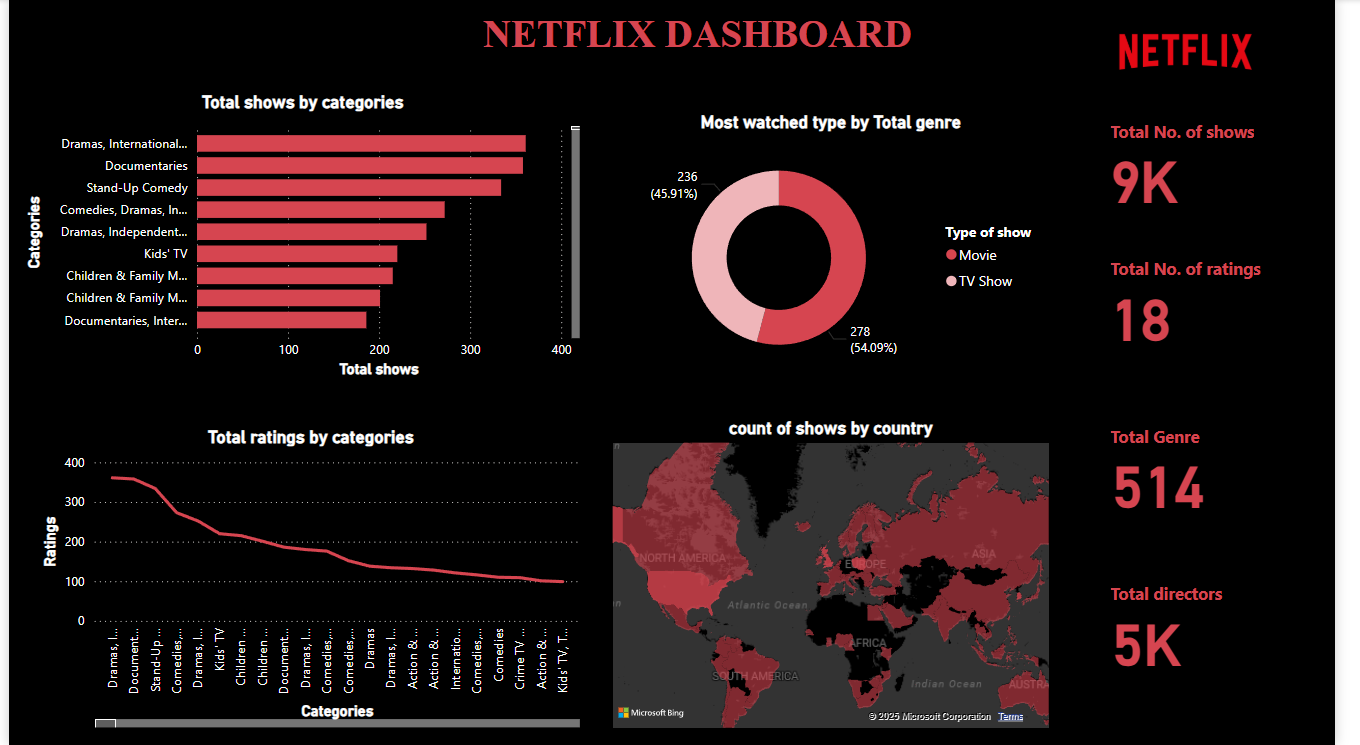

The dashboard page shown, as its layout file describes it:
{"tool":"powerbi","page":{"name":"Page 1","canvas":[1280,720],"ordinal":0},"visuals":[{"type":"textbox","title":"NETFLIX DASHBOARD","box":[452.4,12.1,446.4,37.4],"z":0},{"type":"cardVisual","fields":{"Data":["netflix_data countries_released.Total No.of distinct title"]},"box":[1044.8,97.7,174.9,119.4],"z":1000},{"type":"cardVisual","fields":{"Data":["netflix_data countries_released.count_listedin"]},"box":[1044.8,392.1,181,121.9],"z":2000},{"type":"cardVisual","fields":{"Data":["netflix_data countries_released.Total No. of ratings"]},"box":[1044.8,230.4,200.3,121.9],"z":3000},{"type":"barChart","title":"Total shows by categories","fields":{"Y":["netflix_data countries_released.Total No.of distinct title"],"Category":["netflix_data netflix_titles.listed_in"]},"box":[10.9,89.3,545.3,281.1],"z":4000},{"type":"filledMap","title":"count of shows by country","fields":{"Category":["netflix_data netflix_titles.country","netflix_data countries_released.country","netflix_data countries_released.show_id"]},"box":[577.9,404.2,430.7,304],"z":5000},{"type":"donutChart","title":"Most watched type by Total genre","fields":{"Category":["netflix_data netflix_titles.type"],"Y":["netflix_data countries_released.count_listedin"]},"box":[577.9,108.6,430.7,261.8],"z":6000},{"type":"lineChart","title":"Total ratings by categories","fields":{"Y":["netflix_data countries_released.sum_ratings"],"Category":["netflix_data netflix_titles.listed_in"]},"box":[26.5,412.6,529.6,295.6],"z":7000},{"type":"cardVisual","fields":{"Data":["netflix_data netflix_titles.Total No. of distinct directors"]},"box":[1044.8,544.1,200.3,121.9],"z":8000},{"type":"image","box":[1043.6,0,183.4,97.7],"z":8001}]}

Visuals, with their boxes in screenshot pixels (x1, y1, x2, y2), scaled from the page's 1280x720 canvas onto the 1360x745 screenshot:
"NETFLIX DASHBOARD" textbox: rect(481, 13, 955, 51)
cardVisual - netflix_data countries_released.Total No.of distinct title: rect(1110, 101, 1296, 225)
cardVisual - netflix_data countries_released.count_listedin: rect(1110, 406, 1302, 532)
cardVisual - netflix_data countries_released.Total No. of ratings: rect(1110, 238, 1323, 365)
"Total shows by categories" barChart: rect(12, 92, 591, 383)
"count of shows by country" filledMap: rect(614, 418, 1072, 733)
"Most watched type by Total genre" donutChart: rect(614, 112, 1072, 383)
"Total ratings by categories" lineChart: rect(28, 427, 591, 733)
cardVisual - netflix_data netflix_titles.Total No. of distinct directors: rect(1110, 563, 1323, 689)
image: rect(1109, 0, 1304, 101)
